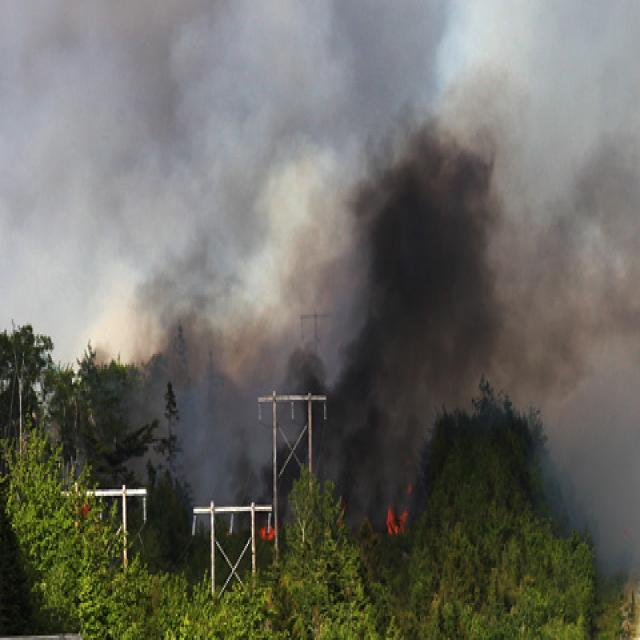Fire: (378, 498, 414, 535), (253, 526, 276, 542)
Smoke: (0, 0, 640, 501)
